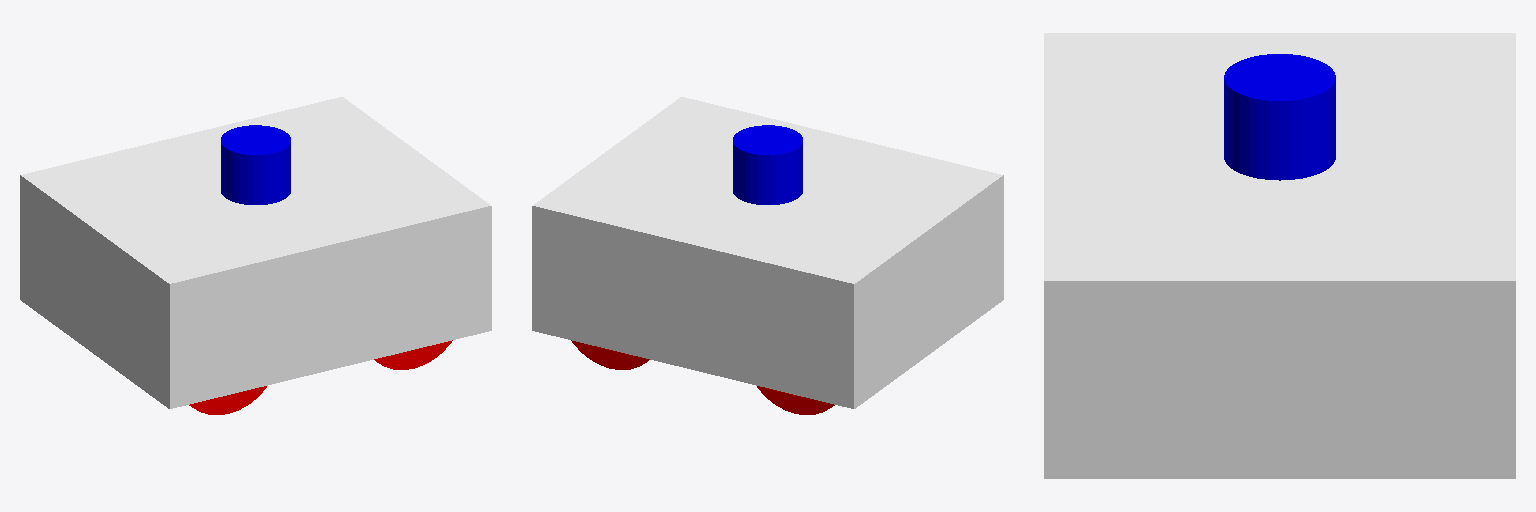
URDF robot description (apostile_robot):
<?xml version="1.0"?>
<robot name="apostile_robot">



    <!--base_link-->
    <link name="Robot_base">

        <visual>
            
        
            <geometry>
                <box size="0.366 0.2934 0.136"/>
            </geometry>
            <material name = "white">

                <color rgba="10 10 10 0.1"/>
            </material>
        </visual>
        <collision>
            <geometry>
                <box size="0.366 0.2934 0.136"/>
            </geometry>
            
        </collision>

        <inertial>
            <mass value="5.6"/>
            <inertia ixx="0.0711" ixy="0.0" ixz="0.0" iyy="0.1025" iyz="0.0" izz="0.0486"/>
        </inertial>
        
    </link>


    

    

    
    




    <!--front_left_wheel-->
    
    <link name="front_left_wheel">
        <visual>
            <geometry>
                <cylinder radius="0.06" length="0.025"/>
            </geometry>
            <material name="red">
                <color rgba="1 0.0 0.0 1"/>
            </material>
        </visual>

        <collision>
            <geometry>
                <cylinder radius="0.06" length="0.025"/>
            </geometry>
        </collision>
        <inertial>
            <mass value="0.6"/>
            <inertia ixx="5.7125e-4" ixy="0.0" ixz="0.0" iyy="5.7125e-4" iyz="0.0" izz="1.08e-3"/>
        </inertial>
       
    </link>
    <joint name="front_left_wheel_joint" type="continuous">
        <parent link="Robot_base"/>
        <child link="front_left_wheel"/>
        <axis xyz="0 0 1"/>
        <origin xyz="0.10509 0.11577 -0.03856" rpy="-1.5707 0 0"/>
    </joint>









    <!--front_right_wheel-->
    
    <link name="front_right_wheel">
        <visual>
            <geometry>
                <cylinder radius="0.06" length="0.025"/>
            </geometry>

            <material name="red">
                <color rgba="1 0.0 0.0 1"/>
            </material>

            
        </visual>
        <collision>
            <geometry>
                <cylinder radius="0.06" length="0.025"/>
            </geometry>
        </collision>
        <inertial>
            <mass value="0.6"/>
            <inertia ixx="5.7125e-4" ixy="0.0" ixz="0.0" iyy="5.7125e-4" iyz="0.0" izz="1.08e-3"/>
        </inertial>

    </link>
    <joint name="front_right_wheel_joint" type="continuous">
        <parent link="Robot_base"/>
        <child link="front_right_wheel"/>
        <axis xyz="0 0 1"/>
        <origin xyz="0.10509 -0.11577 -0.03856" rpy="-1.5707 0 0"/>
    </joint>


    



    


    <!--back_left_wheel-->
    
    <link name="back_left_wheel">
        <visual>
            <geometry>
                <cylinder radius="0.06" length="0.025"/>
            </geometry>
            <material name="red">
                <color rgba="1 0.0 0.0 1"/>
            </material>
        </visual>
        <collision>
            <geometry>
                <cylinder radius="0.06" length="0.025"/>
            </geometry>
        </collision>
        <inertial>
            <mass value="0.6"/>
            <inertia ixx="5.7125e-4" ixy="0.0" ixz="0.0" iyy="5.7125e-4" iyz="0.0" izz="1.08e-3"/>
        </inertial>

    </link>

    <joint name="back_left_wheel_joint" type="continuous">
        <parent link="Robot_base"/>
        <child link="back_left_wheel"/>
        <axis xyz="0 0 1"/>
        <origin xyz="-0.10509 0.11577 -0.03856" rpy="-1.5707 0 0"/>
    </joint>


    
    
    
    



    <!--back_right_wheel-->
    
    <link name="back_right_wheel">
        <visual>
            <geometry>
                <cylinder radius="0.06" length="0.025"/>
            </geometry>

            <material name="red">
                <color rgba="1 0.0 0.0 1"/>
            </material>
        </visual>
        <collision>
            <geometry>
                <cylinder radius="0.06" length="0.025"/>
            </geometry>
        </collision>
        <inertial>
            <mass value="0.6"/>
            <inertia ixx="5.7125e-4" ixy="0.0" ixz="0.0" iyy="5.7125e-4" iyz="0.0" izz="1.08e-3"/>
        </inertial>
        
    </link>


    <joint name="back_right_wheel_joint" type="continuous">
        <parent link="Robot_base"/>
        <child link="back_right_wheel"/>
        <axis xyz="0 0 1"/>
        <origin xyz="-0.10509 -0.11577 -0.03856" rpy="-1.5707 0 0"/>
    </joint>









    <!--lidar-->

    <link name="lidar">
        <visual>
            <geometry>
                <cylinder radius="0.035" length="0.055"/>
            </geometry>

            <material name="blue">
                <color rgba="0.0 0.0 1 1.0"/>
            </material>
        </visual>
        <collision>
            <geometry>
                <cylinder radius="0.035" length="0.055"/>
            </geometry>
        </collision>
        
            
    </link>

    <joint name="lidar_joint" type="fixed">
        <parent link="Robot_base"/>
        <child link="lidar"/>
        <origin xyz="0.0 0.0 0.095" rpy="0.0 0.0 0.0"/>
    </joint>







    <!-- apostile_robot_ gazebo_plugins-->
    <gazebo reference="lidar">
        <sensor type="ray" name="head_hokuyo_sensor">
            <pose>0 0 0 0 0 0</pose>
            <visualize>true</visualize>
            <update_rate>40</update_rate>
            <ray>
                <scan>
                    <horizontal>
                        <samples>720</samples>
                        <resolution>1</resolution>
                        <min_angle>-3.14</min_angle>
                        <max_angle>3.14</max_angle>
                    </horizontal>
                </scan>
                <range>
                    <min>0.08</min>
                    <max>5.0</max>
                    <resolution>0.01</resolution>
                </range>
                <noise>
                    <type>gaussian</type>
          <!-- Noise parameters based on published spec for Hokuyo laser
               achieving "+-30mm" accuracy at range < 10m.  A mean of 0.0m and
               stddev of 0.01m will put 99.7% of samples within 0.03m of the true
               reading. -->
                    <mean>0.0</mean>
                    <stddev>0.01</stddev>
                </noise>
            </ray>
            <plugin name="gazebo_ros_head_hokuyo_controller" filename="libgazebo_ros_laser.so">
                <topicName>/scan</topicName>
                <frameName>lidar</frameName> 
                <!-- frame name should match link name  -->
            </plugin>
        </sensor>
    </gazebo>





    <gazebo>
        <plugin name="skid_steer_drive_controller" filename="libgazebo_ros_skid_steer_drive.so">
            <updateRate>100.0</updateRate>
            <robotNamespace>/</robotNamespace>
            <leftFrontJoint>front_left_wheel_joint</leftFrontJoint>
            <rightFrontJoint>front_right_wheel_joint</rightFrontJoint>
            <leftRearJoint>back_left_wheel_joint</leftRearJoint>
            <rightRearJoint>back_right_wheel_joint</rightRearJoint>
            <wheelSeparation>0.23154</wheelSeparation>
            <wheelDiameter>0.12</wheelDiameter>
            <robotBaseFrame>Robot_base</robotBaseFrame>
            <torque>40</torque>
            <topicName>cmd_vel</topicName>
            <broadcastTF>true</broadcastTF>
        </plugin>
    </gazebo>
    
    
</robot>

--- Render facts (derived) ---
3 views of the same robot in one strip: view 1: azimuth 30°, elevation 25°; view 2: azimuth 150°, elevation 25°; view 3: azimuth 270°, elevation 25° (orthographic).
Robot: apostile_robot — 6 links, 5 joints (4 continuous, 1 fixed); root link Robot_base; default pose: all joints at 0.
Links seen in each view (by area): view 1: Robot_base, lidar, front_right_wheel, back_right_wheel; view 2: Robot_base, lidar, front_left_wheel, back_left_wheel; view 3: Robot_base, lidar.
Link boxes in pixels (x1,y1,x2,y2): Robot_base: (20,97,491,408); lidar: (221,125,290,204); front_right_wheel: (374,340,452,369); back_right_wheel: (189,386,266,414); Robot_base: (532,97,1003,408); lidar: (733,125,802,204); front_left_wheel: (571,340,649,369); back_left_wheel: (757,386,834,414); Robot_base: (1044,33,1515,478); lidar: (1224,54,1335,180).
Bounding box of the posed robot: 0.366 × 0.2934 × 0.2211 m (x, y, z).
Geometry: primitives only (box / cylinder / sphere), no mesh files.
